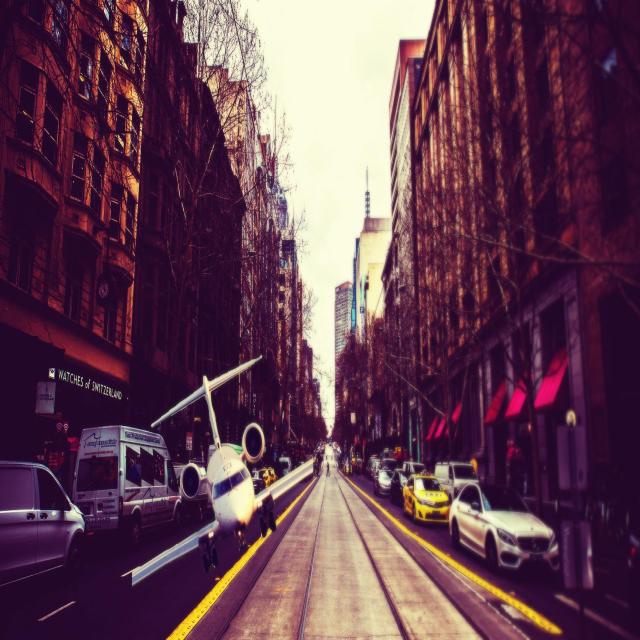airplane: (121, 354, 315, 587)
